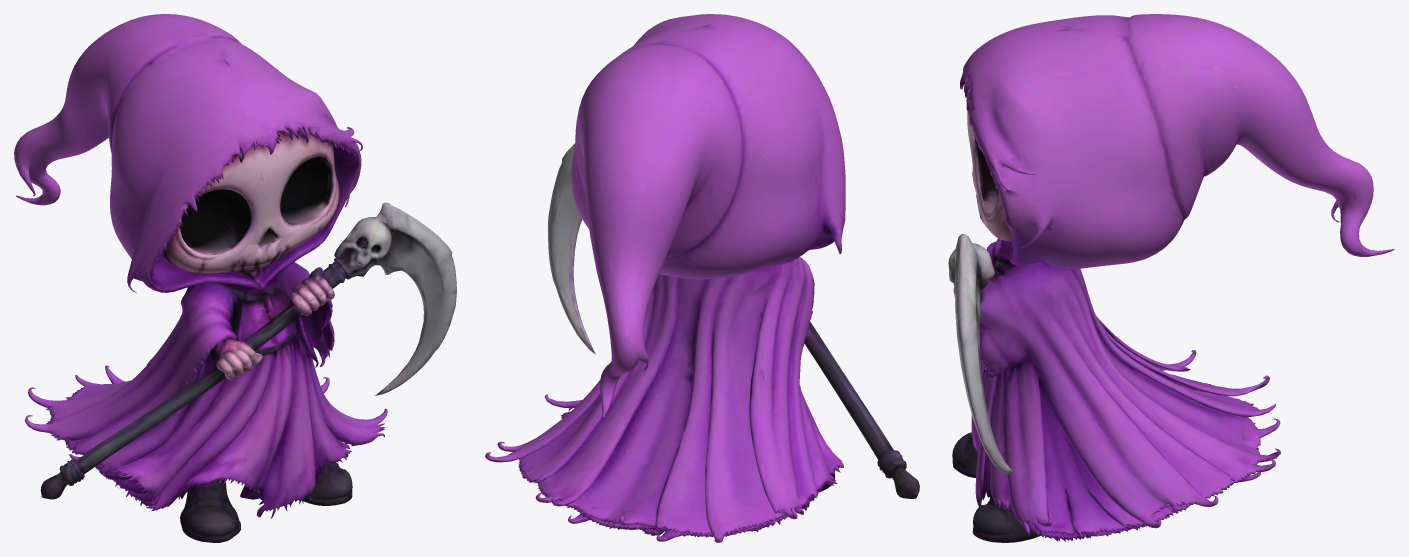
The model's file is crystal-tree-uH93iIjV.glb.
3 renders of one model, left to right at view 1: azimuth 30°, elevation 25°; view 2: azimuth 150°, elevation 25°; view 3: azimuth 270°, elevation 25°, orthographic. The views are drawn at different scales.
Visible parts, largest first — view 1: material; view 2: material; view 3: material.
Boxes of the visible parts, left/top/right/bottom form: material: left=14, top=14, right=456, bottom=542; material: left=485, top=14, right=919, bottom=542; material: left=948, top=14, right=1394, bottom=542.
Bounding box in the file's own units: 0.8172 × 0.9075 × 0.777.
Materials: 1 (1 with a texture image).
